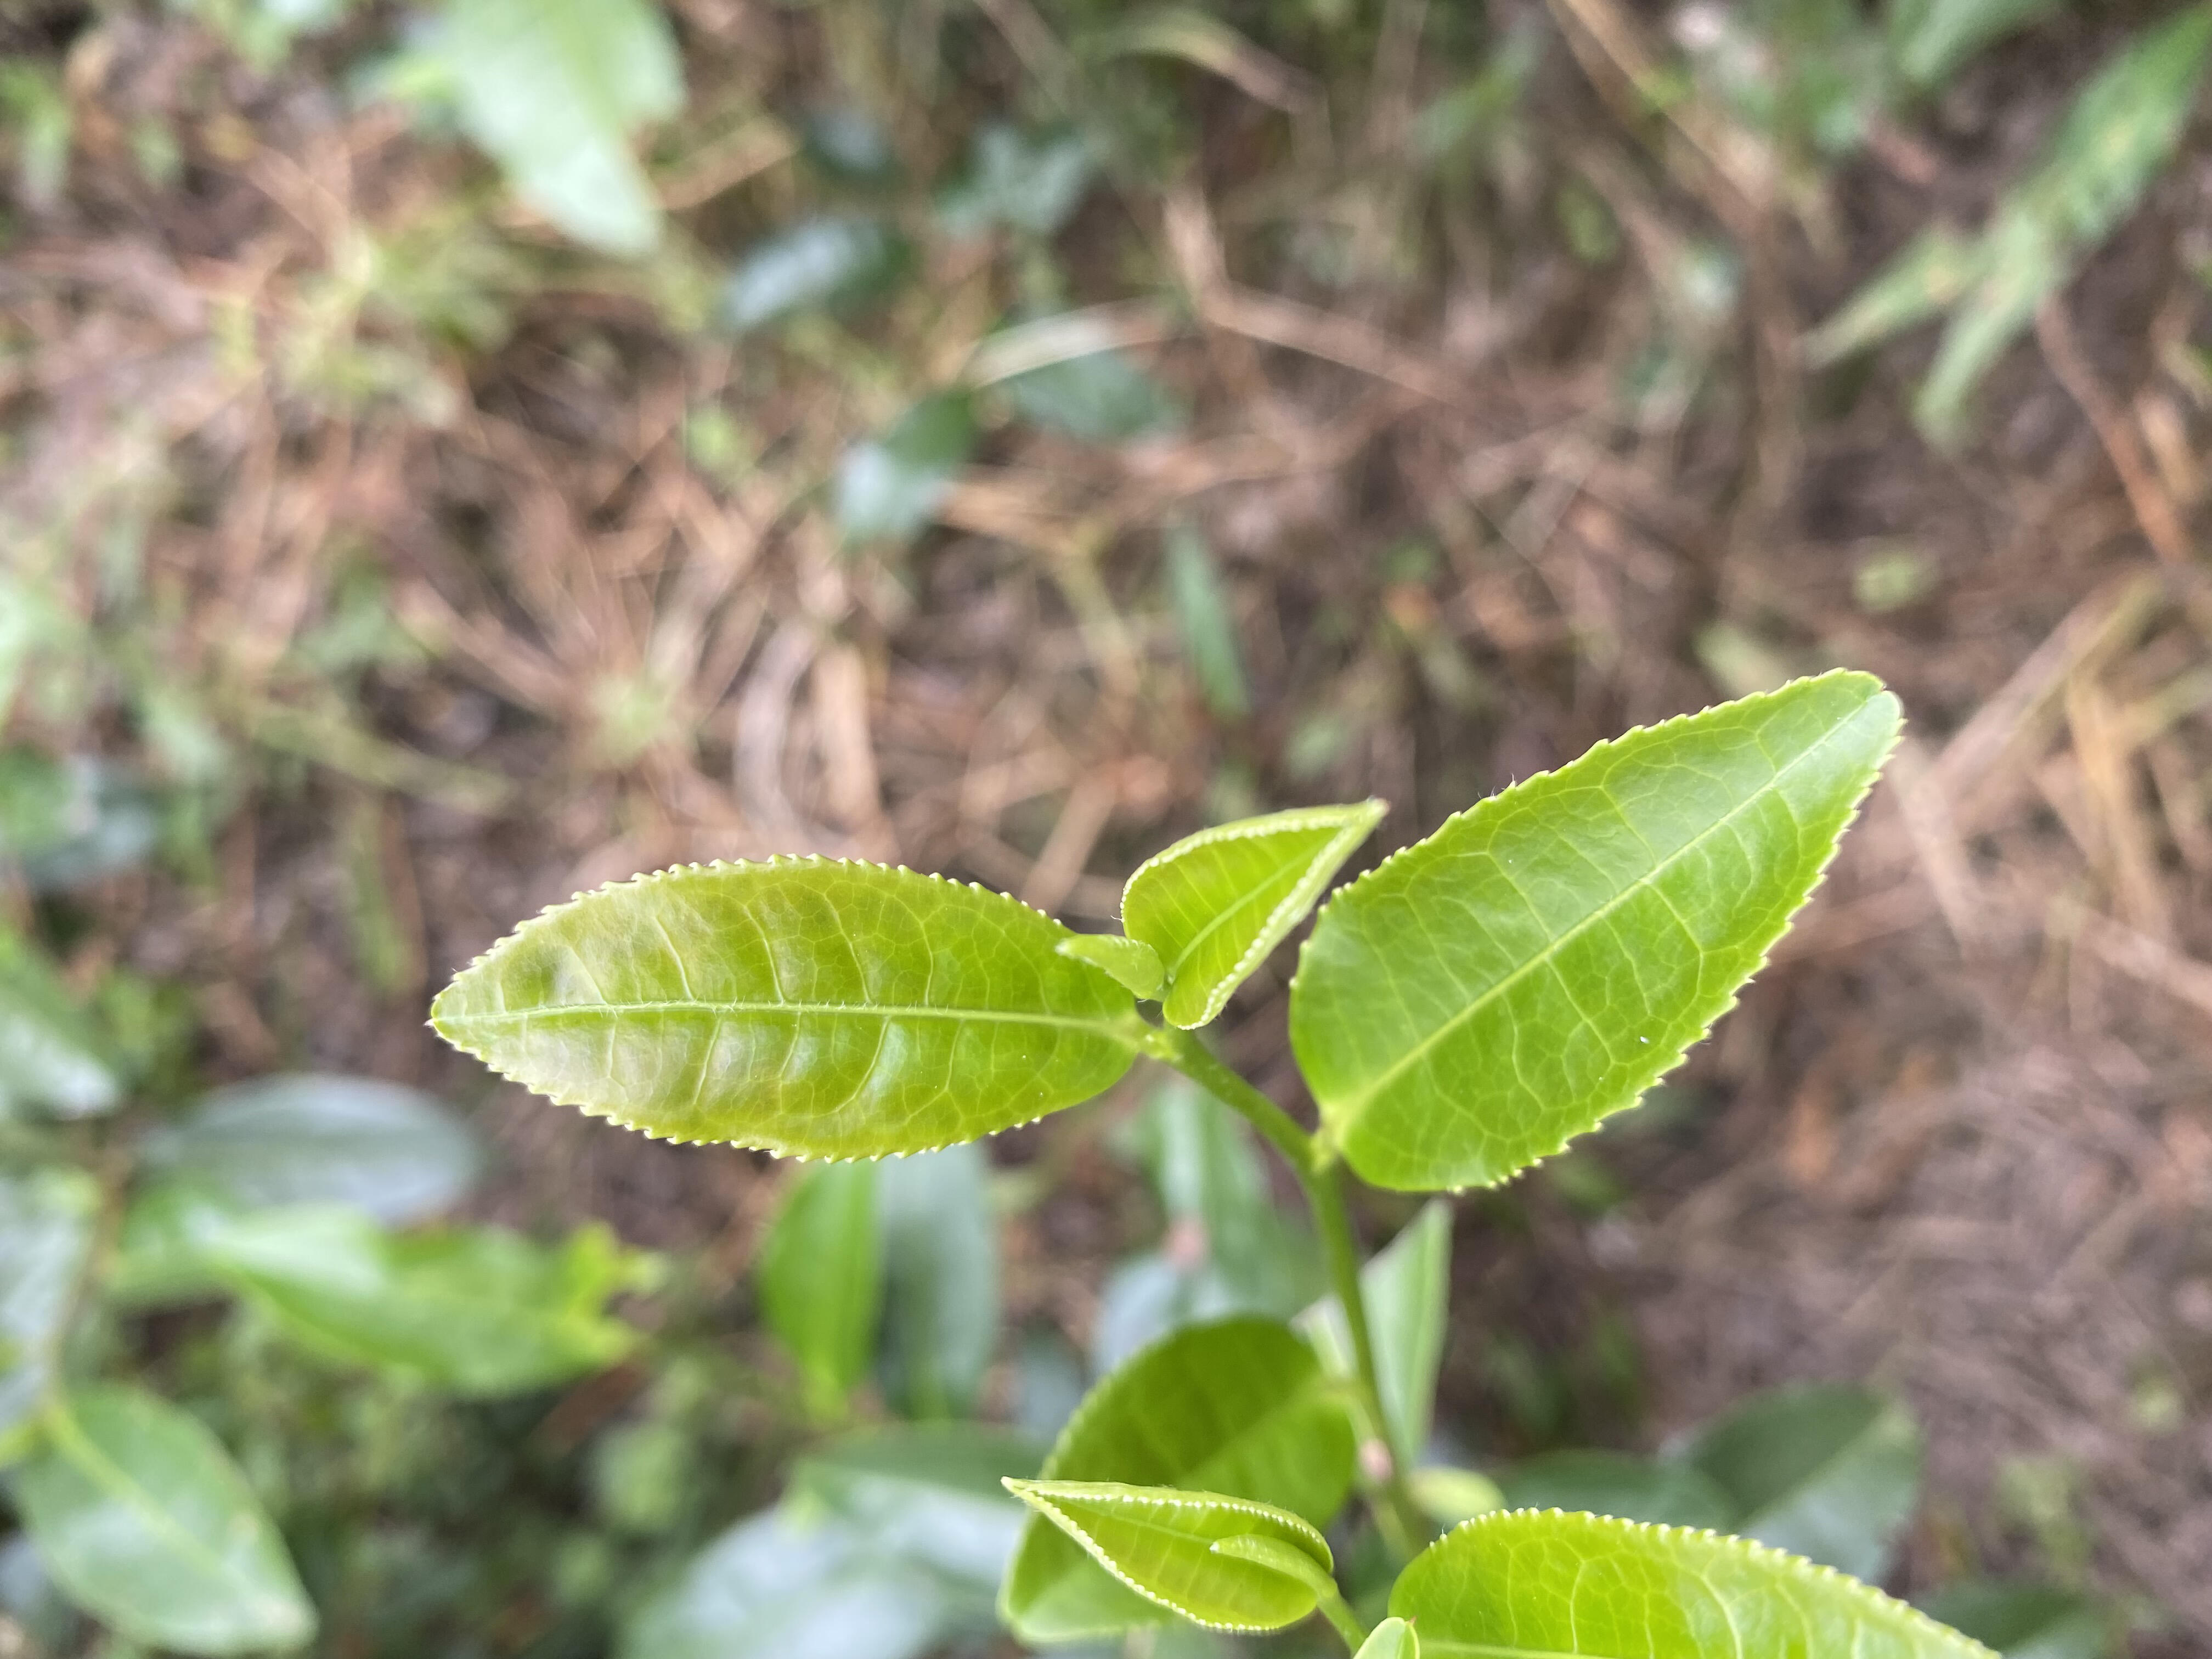healthy: (1287, 666, 1907, 1199), (425, 854, 1137, 1164), (1122, 802, 1390, 1033), (1000, 1473, 1336, 1635)
